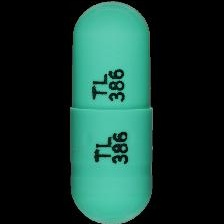63629-5237: (0, 0, 224, 224)
